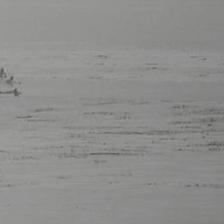surfer: (1, 88, 21, 96), (1, 75, 14, 85), (1, 67, 6, 77)
